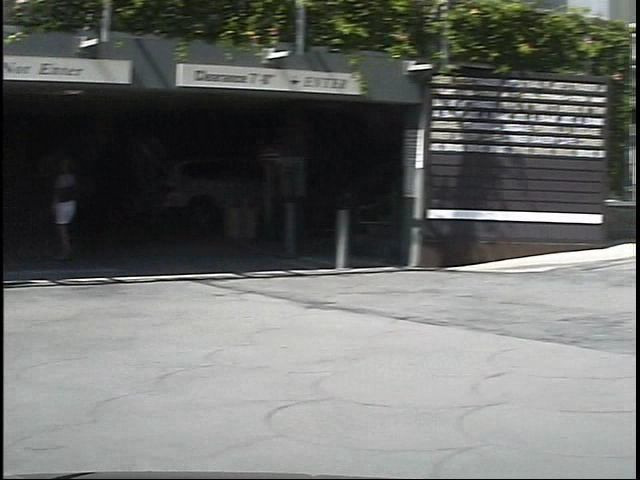person: (31, 145, 79, 269)
